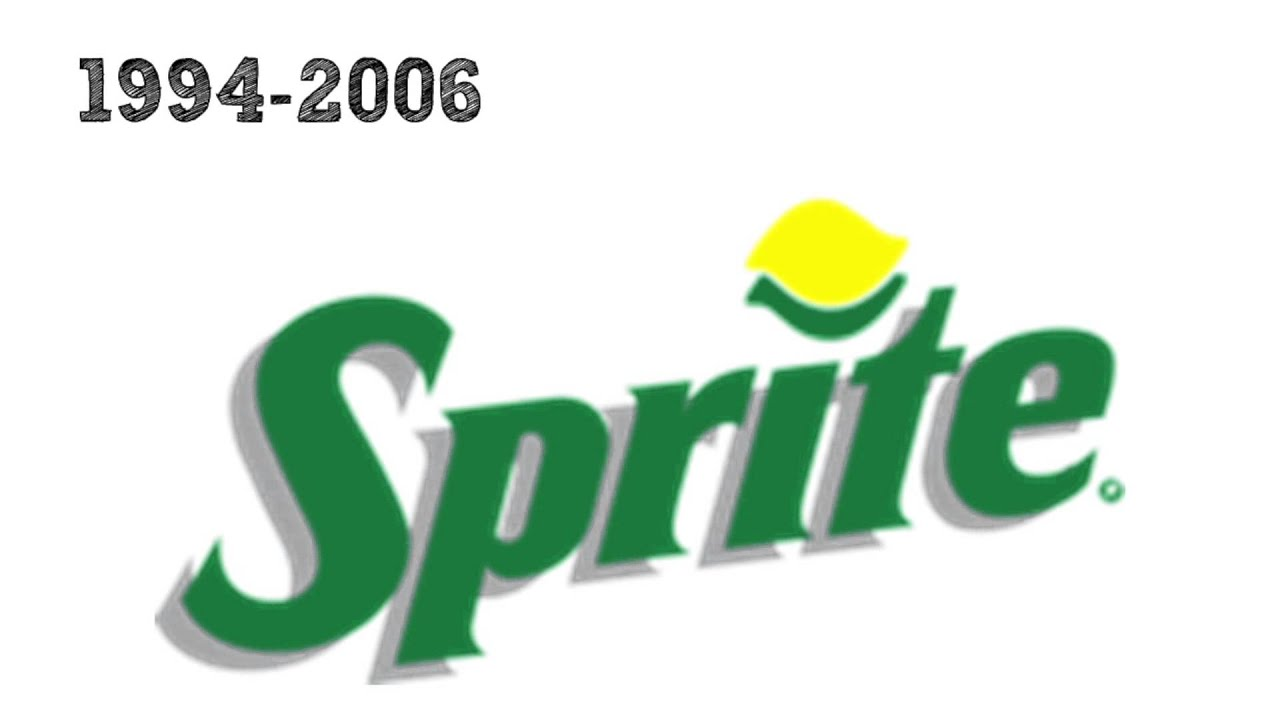sprite: (179, 285, 1114, 666)
